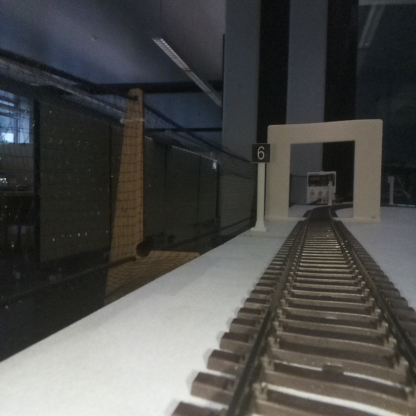black-info-6: (251, 144, 269, 229)
